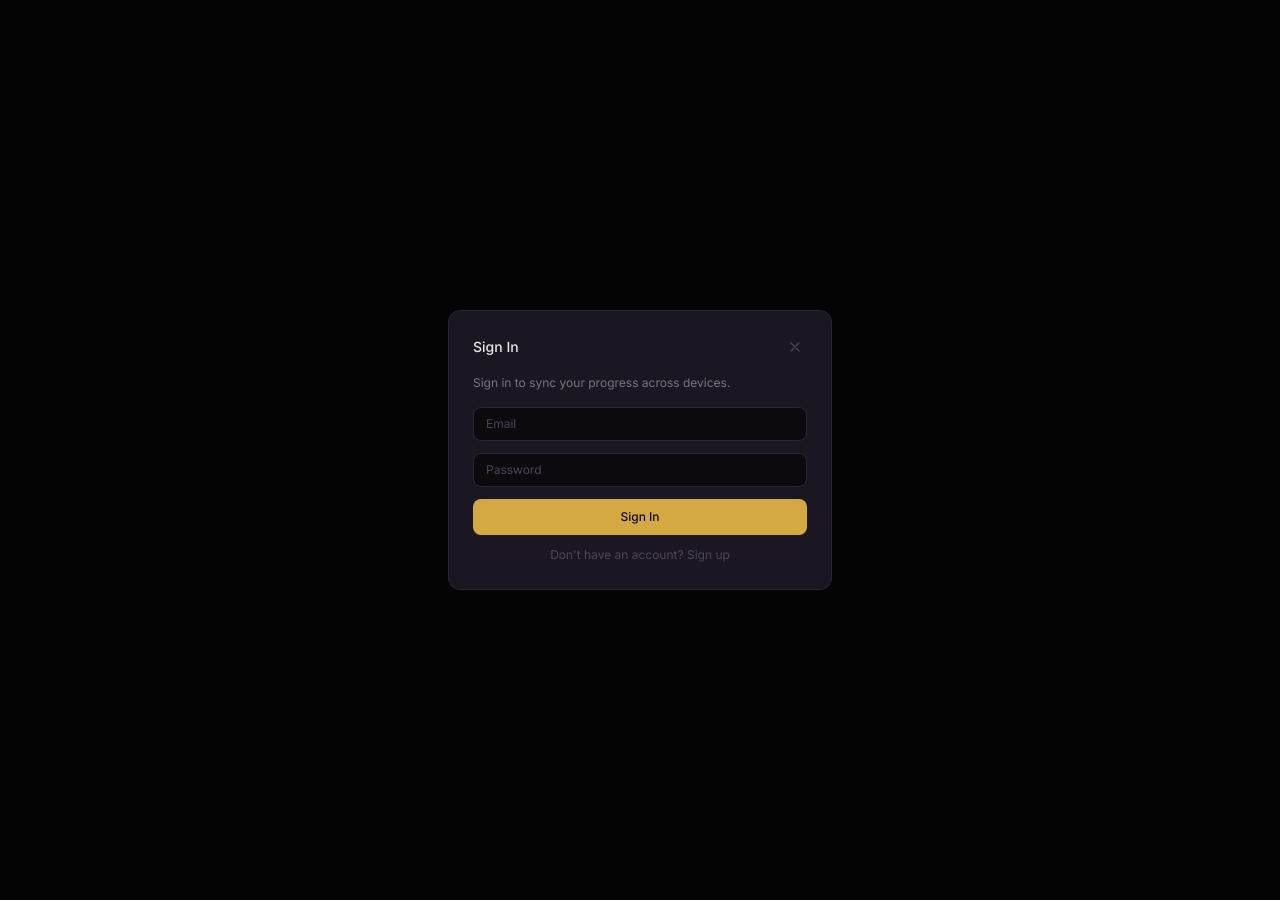
Test: AuthModal — sign in / sign up form › toggles to sign up mode
This screenshot has width=1280, height=900.
Click the button "Don't have an account? Sign up" at (640, 555), box [473,547,807,563]
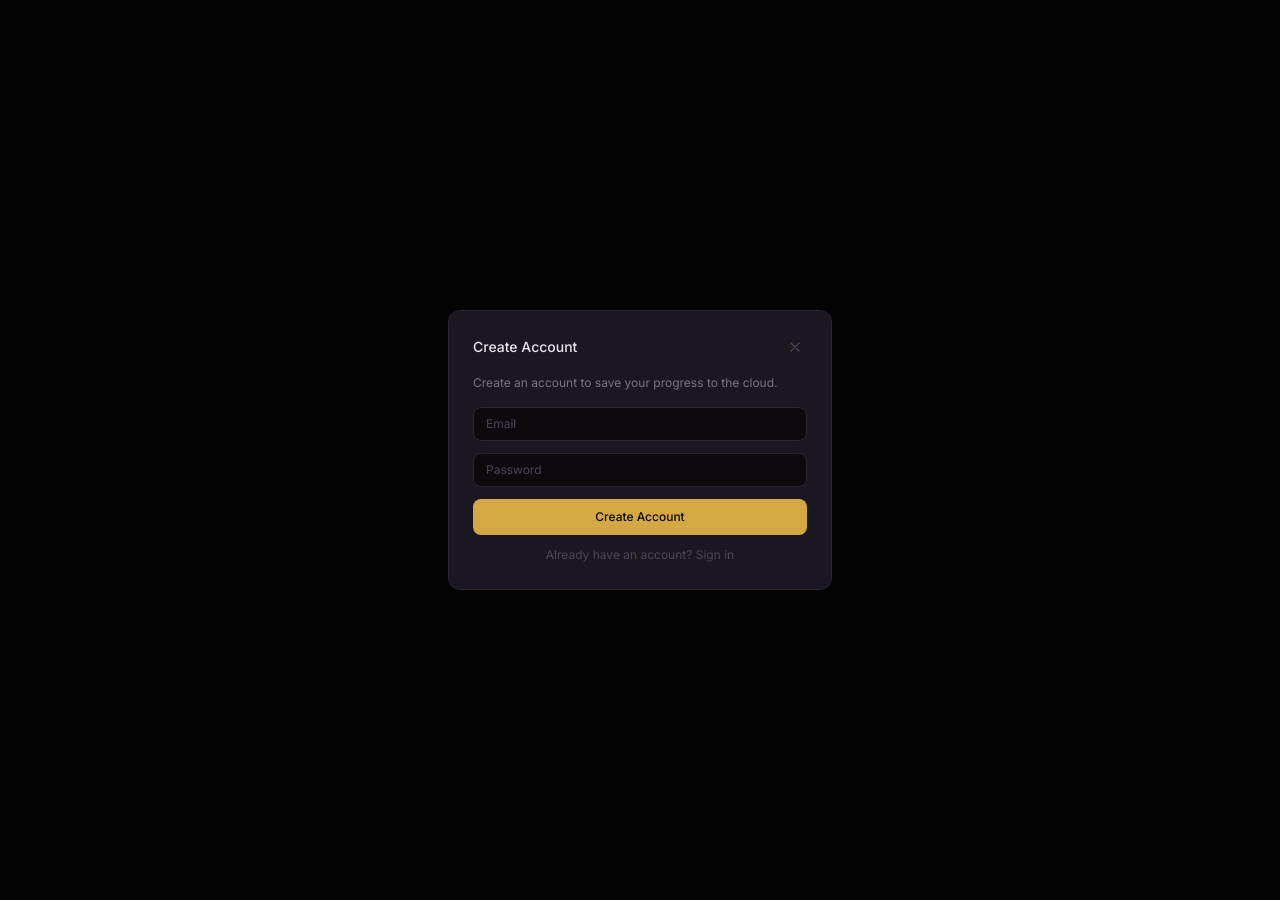
Result: the heading reads "Create Account" at [473,338,577,355]
